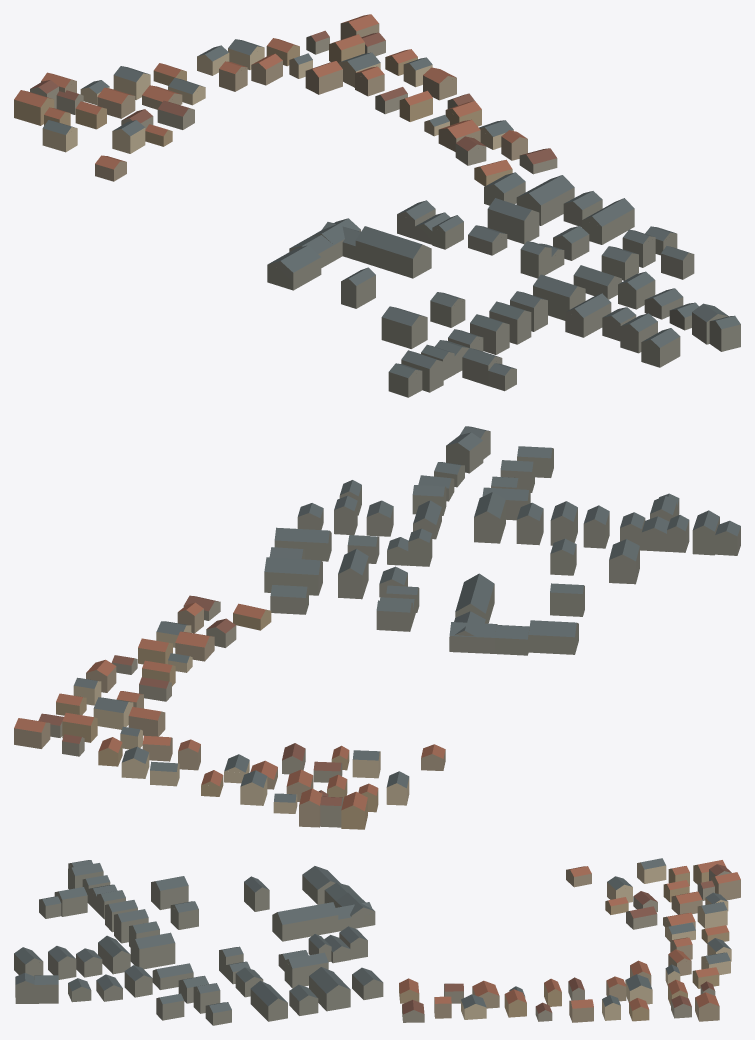
The picture shows the model from 3 angles, top to bottom: view 1: azimuth 30°, elevation 25°; view 2: azimuth 150°, elevation 25°; view 3: azimuth 270°, elevation 25°; orthographic projection. The views are drawn at different scales.
Parts seen in each view (by area): view 1: C_-1_-3; view 2: C_-1_-3; view 3: C_-1_-3.
Boxes of the visible parts, x1,y1,x2,y2 form: C_-1_-3: (14, 14, 740, 397); C_-1_-3: (14, 426, 740, 829); C_-1_-3: (14, 858, 740, 1025).
Bounding box in the file's own units: 185 × 15.17 × 373.
